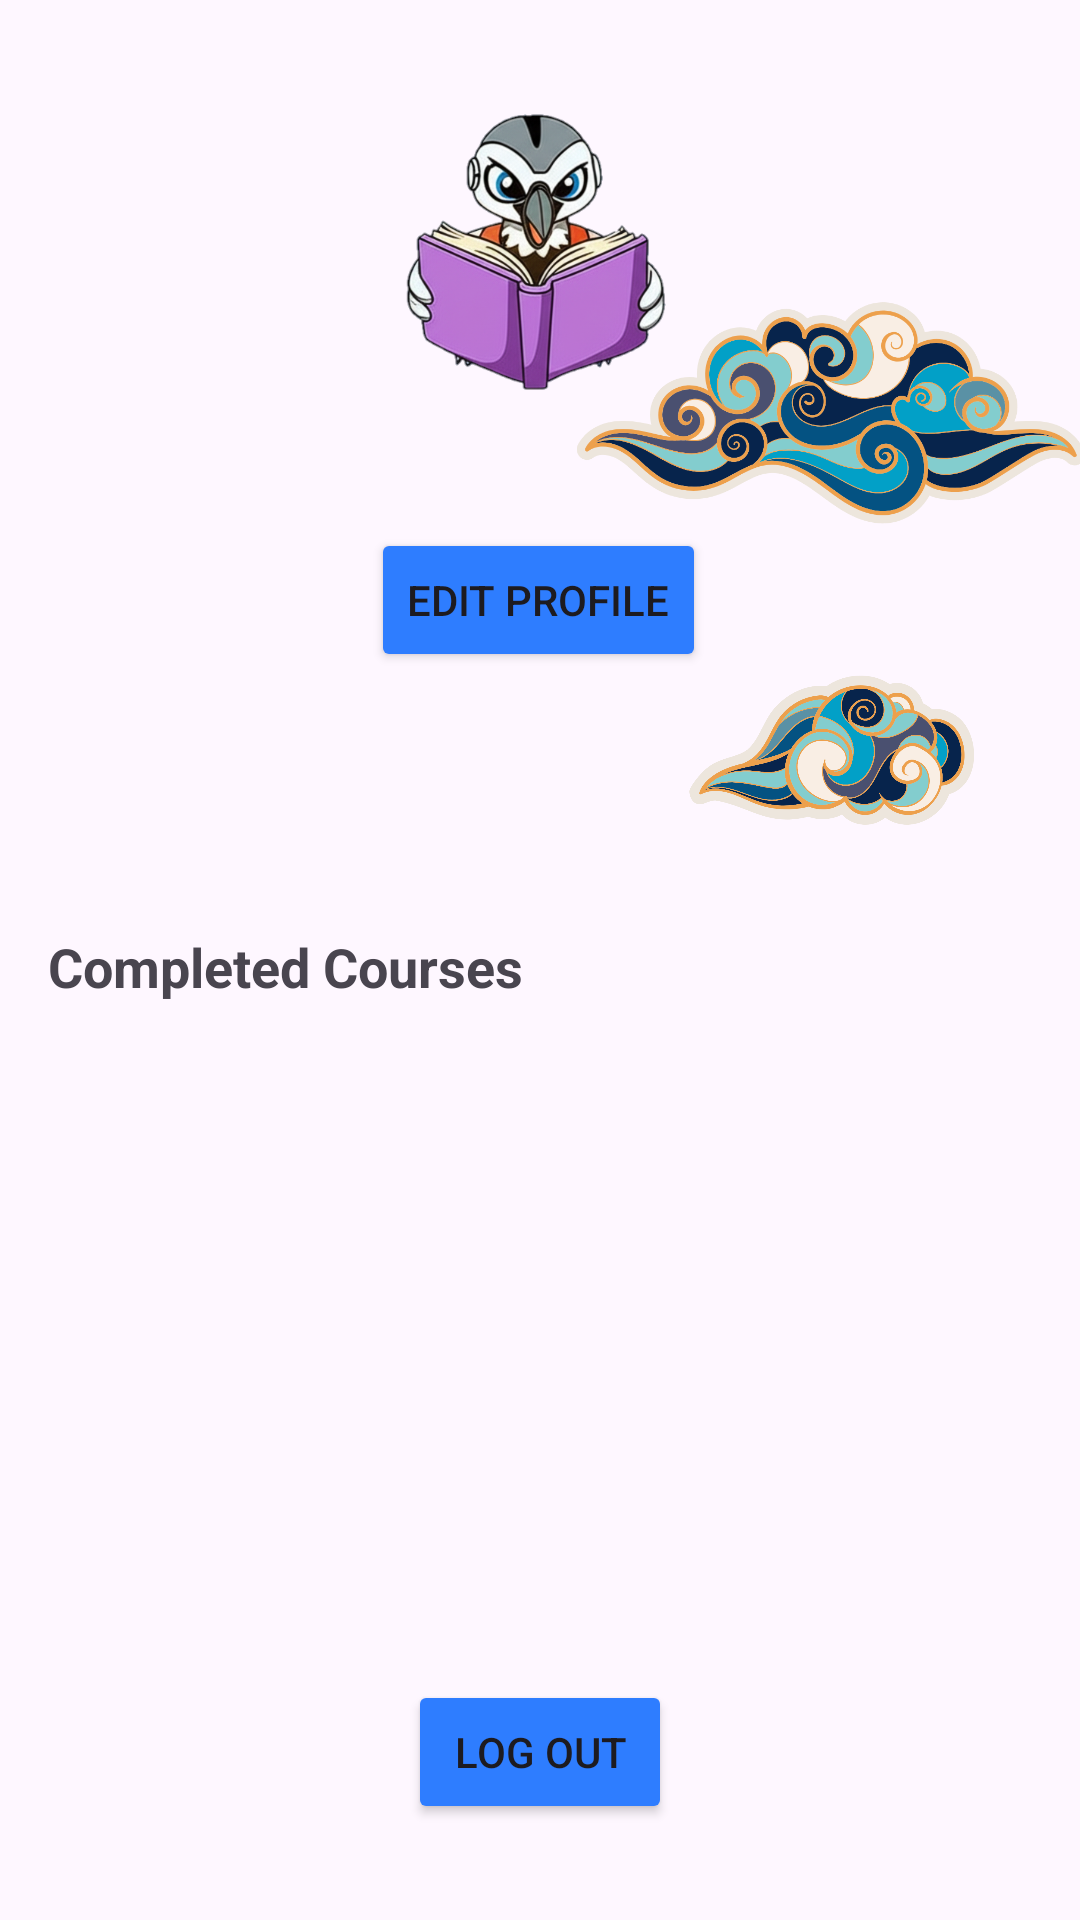

Icons on this 1080*1920 Android screen, each with its box as box(x1, y1, x2, y2):
learning eagle: box(407, 114, 666, 390)
